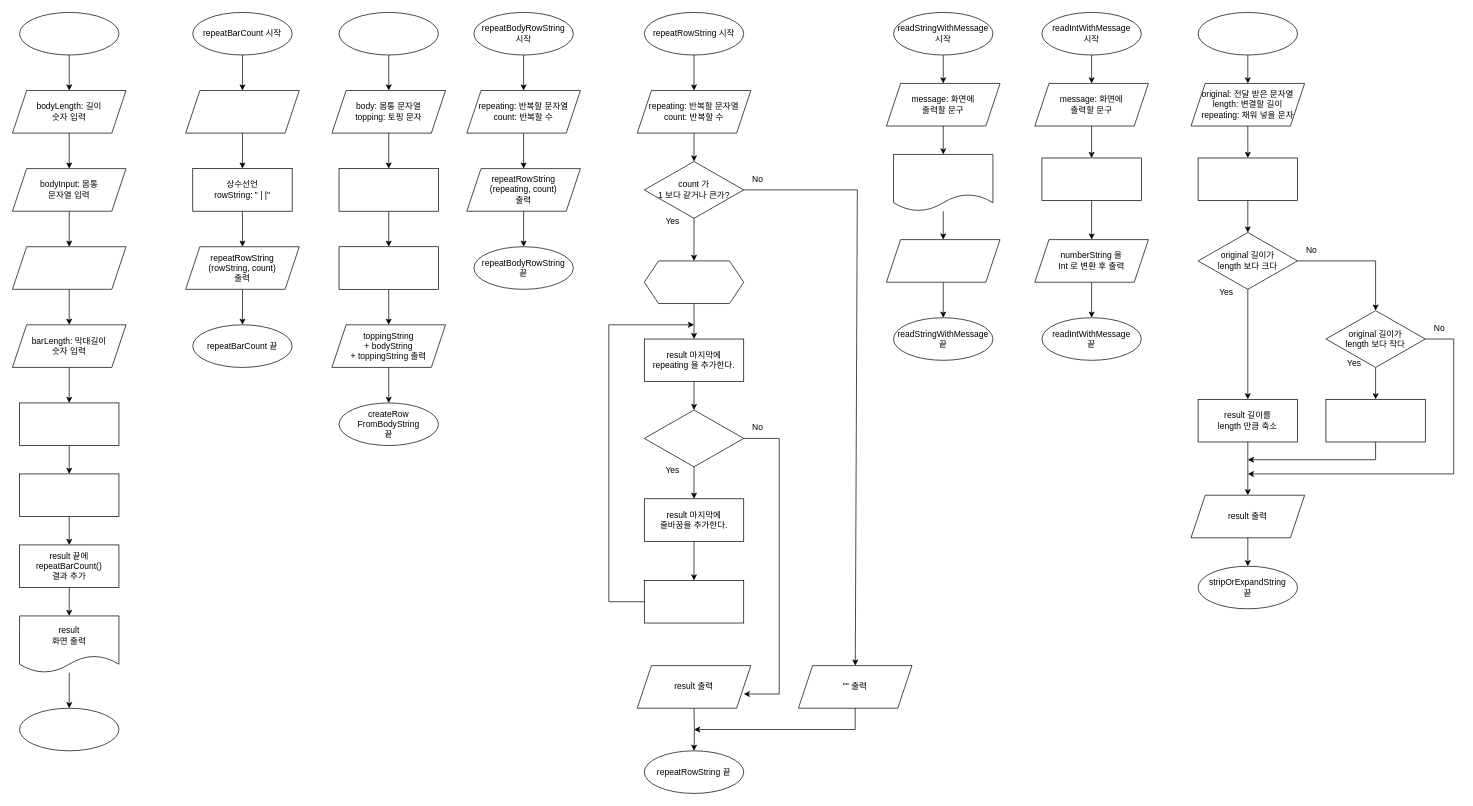
Some shapes in this 1473 by 806 pixel diagram are drawn without their labels. The shapes that lost their labels are listed below. From the top down, each one's centre as x and y in pixels, then its label:
pixel 69 33: step3Main 시작
pixel 388 33: createRow FromBodyString 시작
pixel 1247 33: stripOrExpandString 시작
pixel 242 111: count: 반복할 수
pixel 388 189: bodyString 에 body 를 3글자 길이로 만들어 저장
pixel 943 182: message 화면 출력
pixel 1091 179: numberString 에 readStringWithMessage (message) 결과 저장
pixel 1247 179: result 에 original 저장
pixel 69 267: toppingInput: 토핑 문자열 입력
pixel 388 267: toppingString 에 topping 을 1글자 길이로 만들어 저장
pixel 943 260: 사용자 입력받은 내용을 unwrapping 하여 출력
pixel 694 282: 변수선언 result: "" rowNumber: 1
pixel 69 424: bodyString 에 createRow FromBodyString() 결과 저장
pixel 694 438: rowNumber 가 count 와 같지 않은가?
pixel 1375 420: result 뒤에 repeating 글자를 모자른 만큼 반복하여 추가
pixel 69 495: result 에 repeatBodyRowString() 결과 저장
pixel 694 601: rowNumber 를 1 증가 시킨다.
pixel 69 729: step3Main 끝
